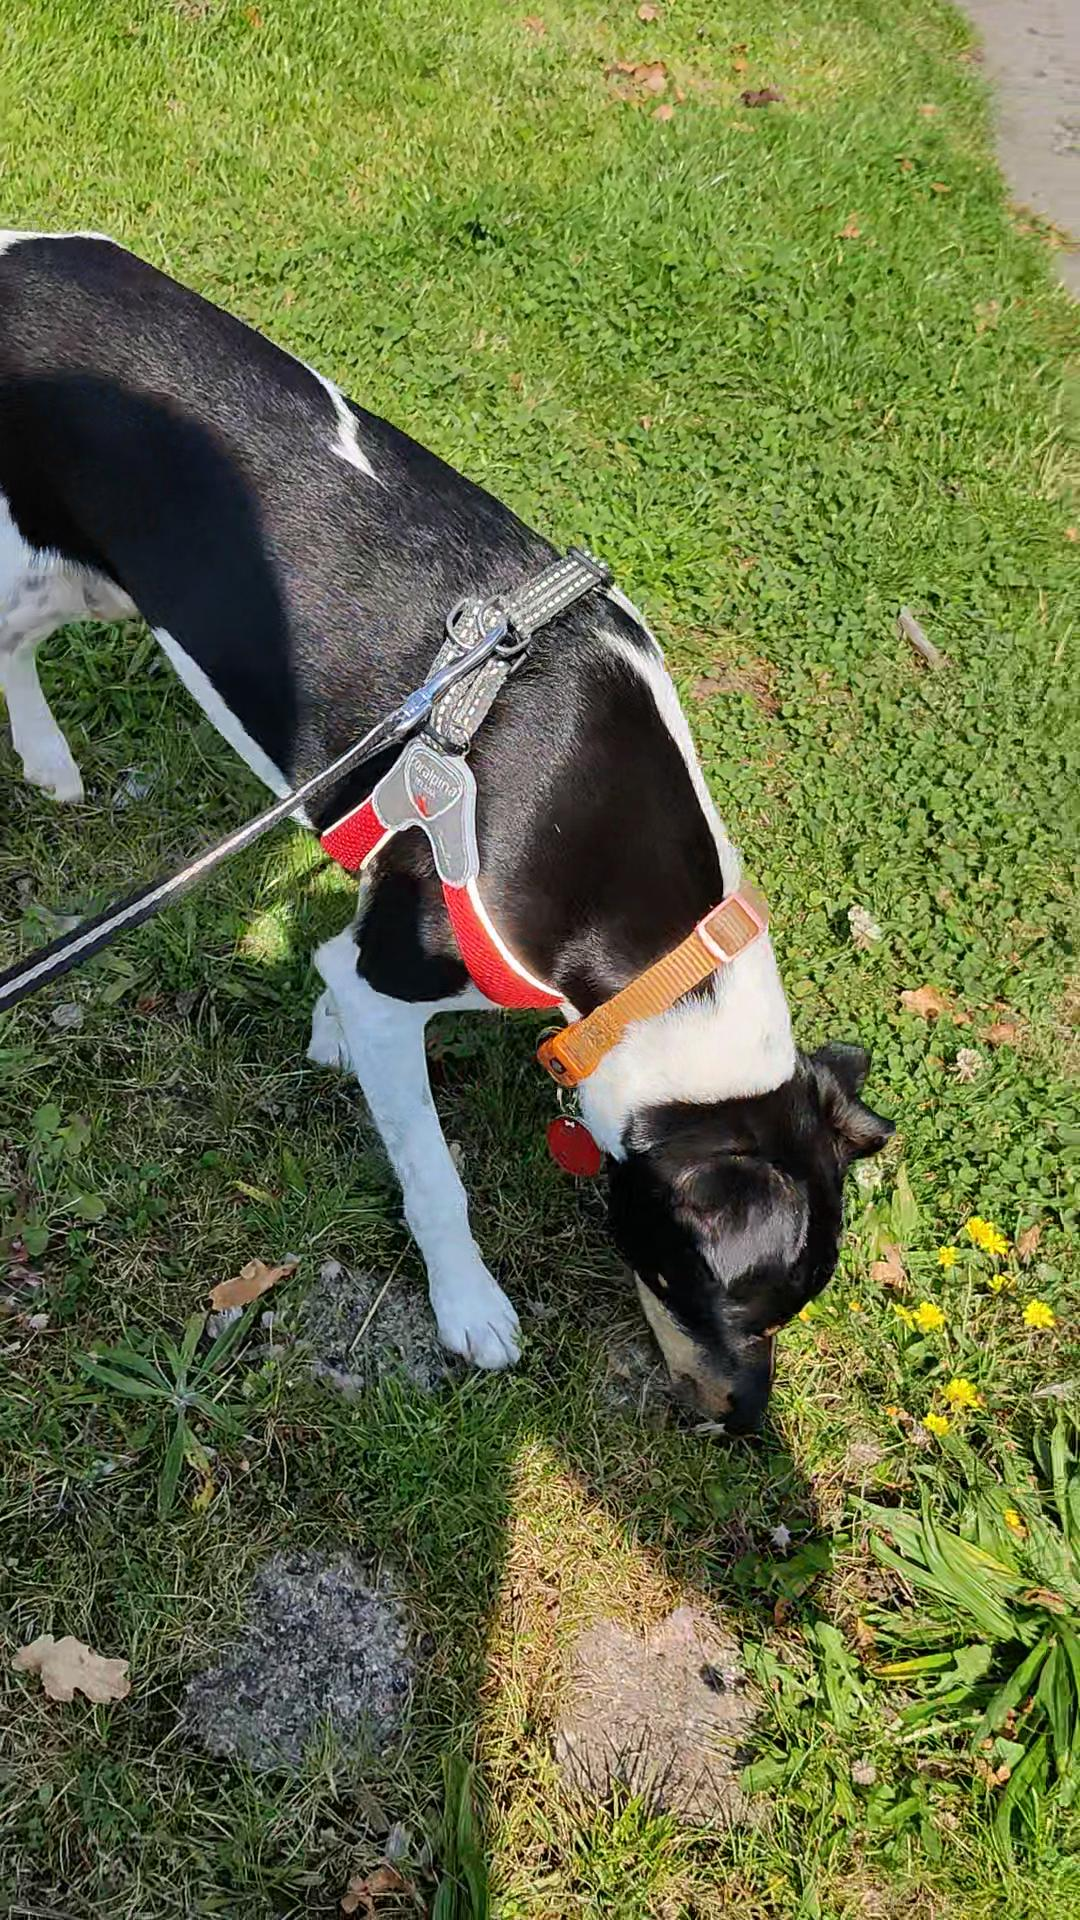Dog: (0, 190, 911, 1487)
